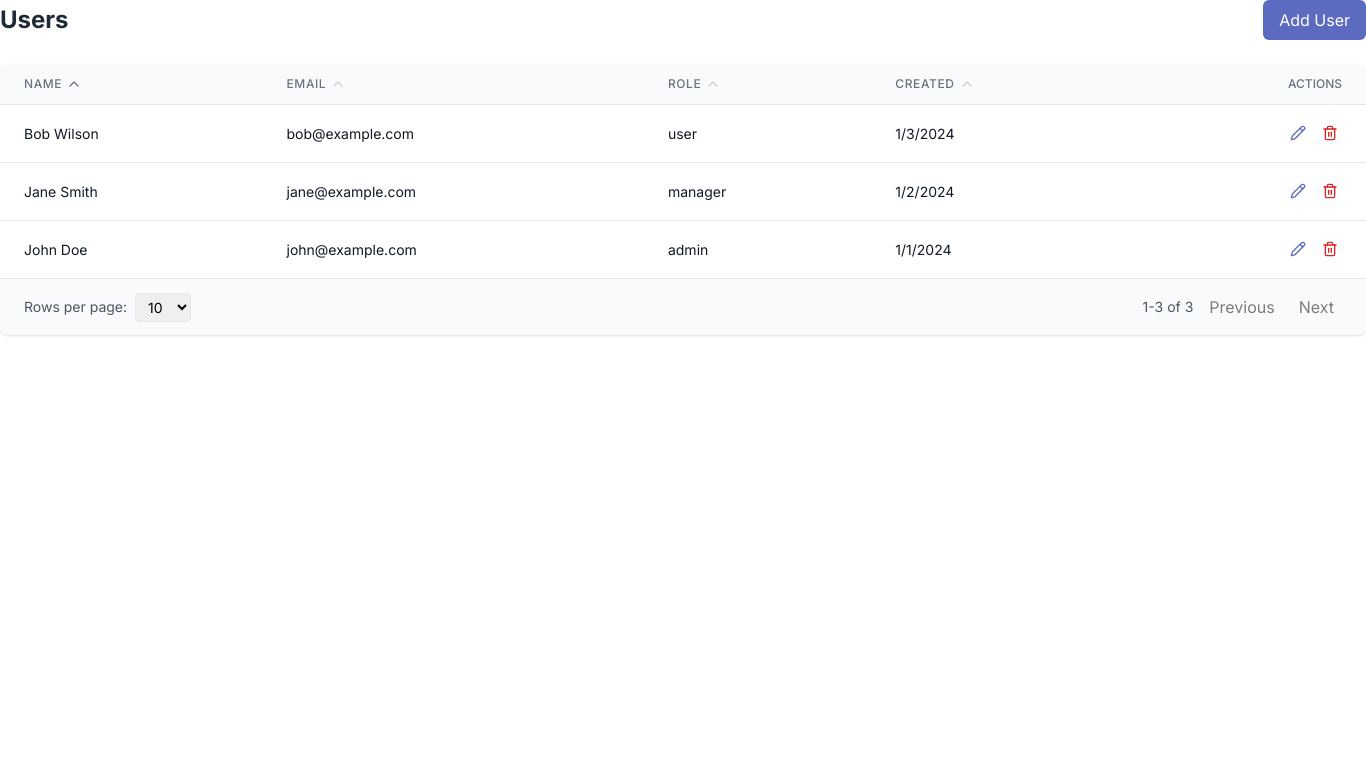
Test: User CRUD Integration › should open create user dialog when Add User clicked
Step 1. Click the button "Add User" → (1315, 20), box [1263,0,1365,40]
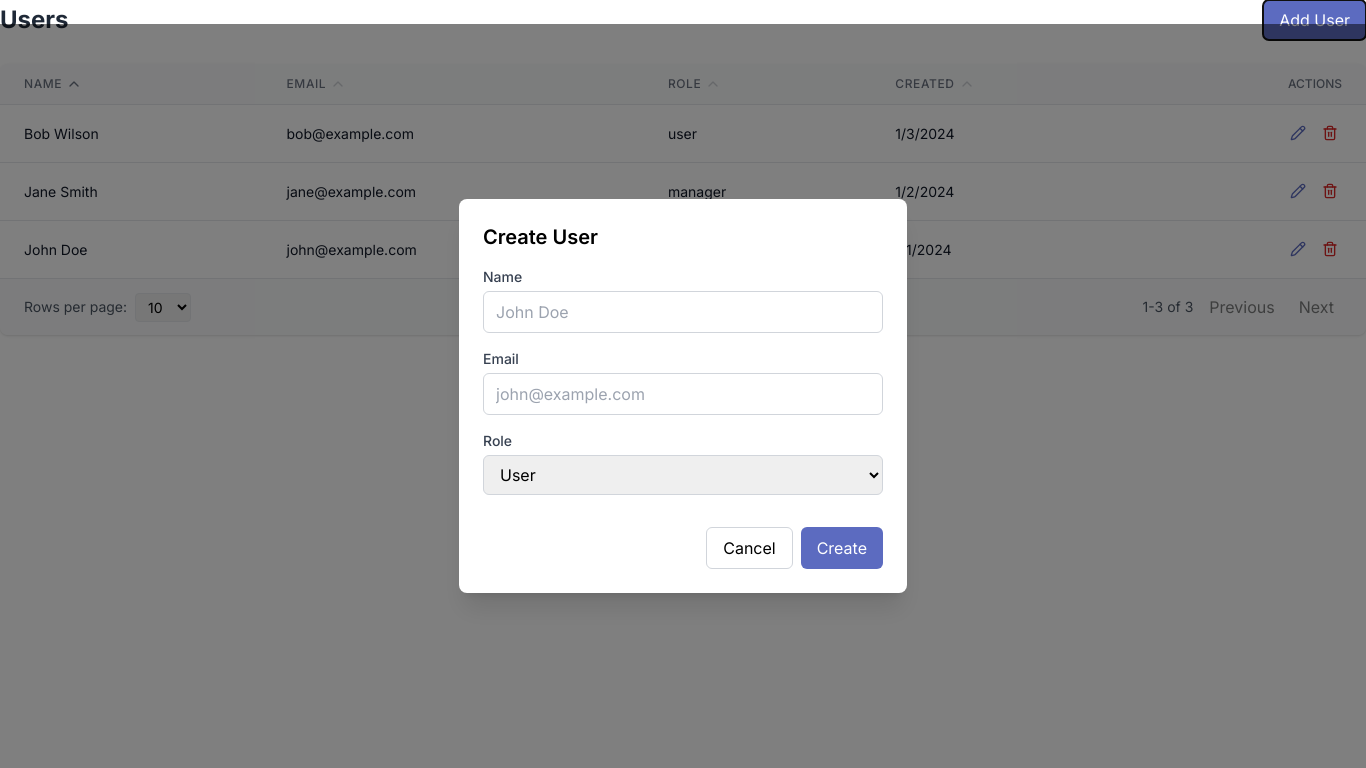
Result: the heading "Create User" is shown at [483,225,598,249]
